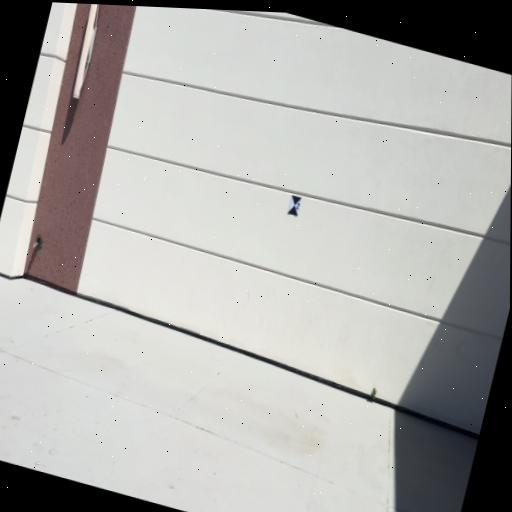target7: (287, 194, 303, 217)
